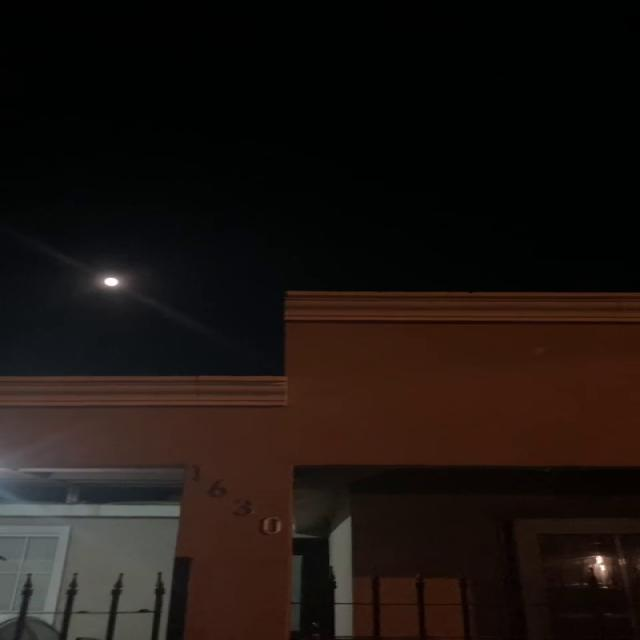moon: (85, 270, 135, 303)
